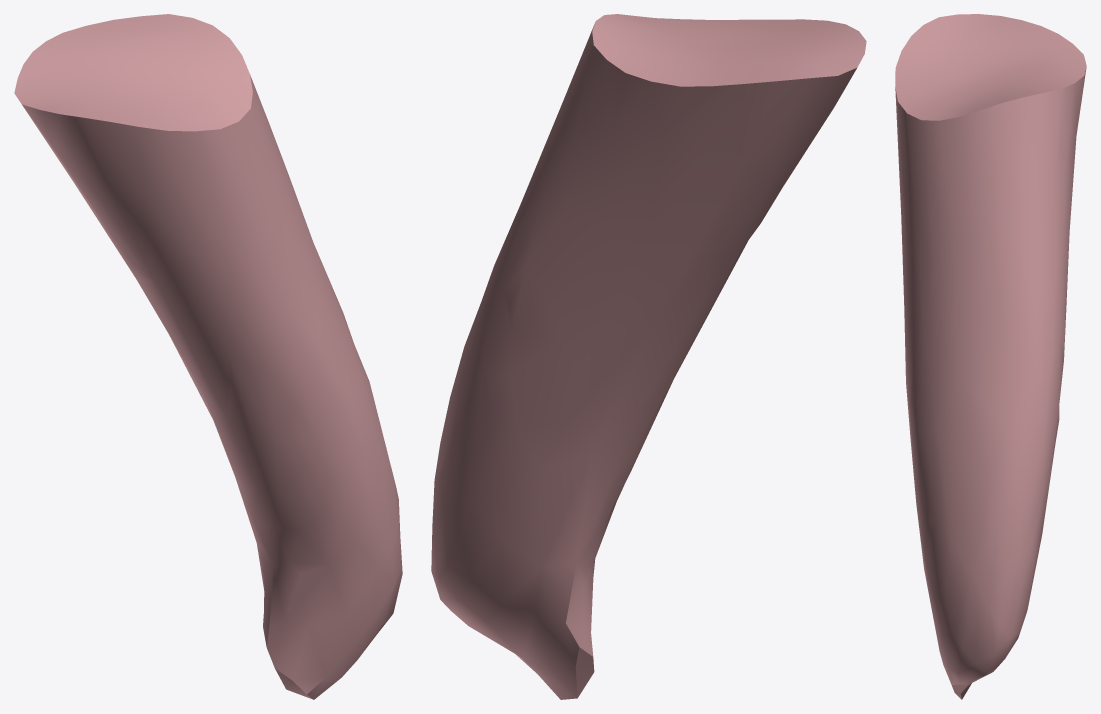
The model's file is fma39360-f_mm1939.glb.
3 renders of one model, left to right at view 1: azimuth 30°, elevation 25°; view 2: azimuth 150°, elevation 25°; view 3: azimuth 270°, elevation 25°, orthographic. The views are drawn at different scales.
Visible parts, largest first — view 1: FMA39360-F_MM1939; view 2: FMA39360-F_MM1939; view 3: FMA39360-F_MM1939.
Boxes of the visible parts, x1,y1,x2,y2 form: FMA39360-F_MM1939: (14,14,402,699); FMA39360-F_MM1939: (431,14,866,699); FMA39360-F_MM1939: (895,14,1086,699).
Size of the model in its own units: 0.00879 by 0.0148 by 0.00446.
